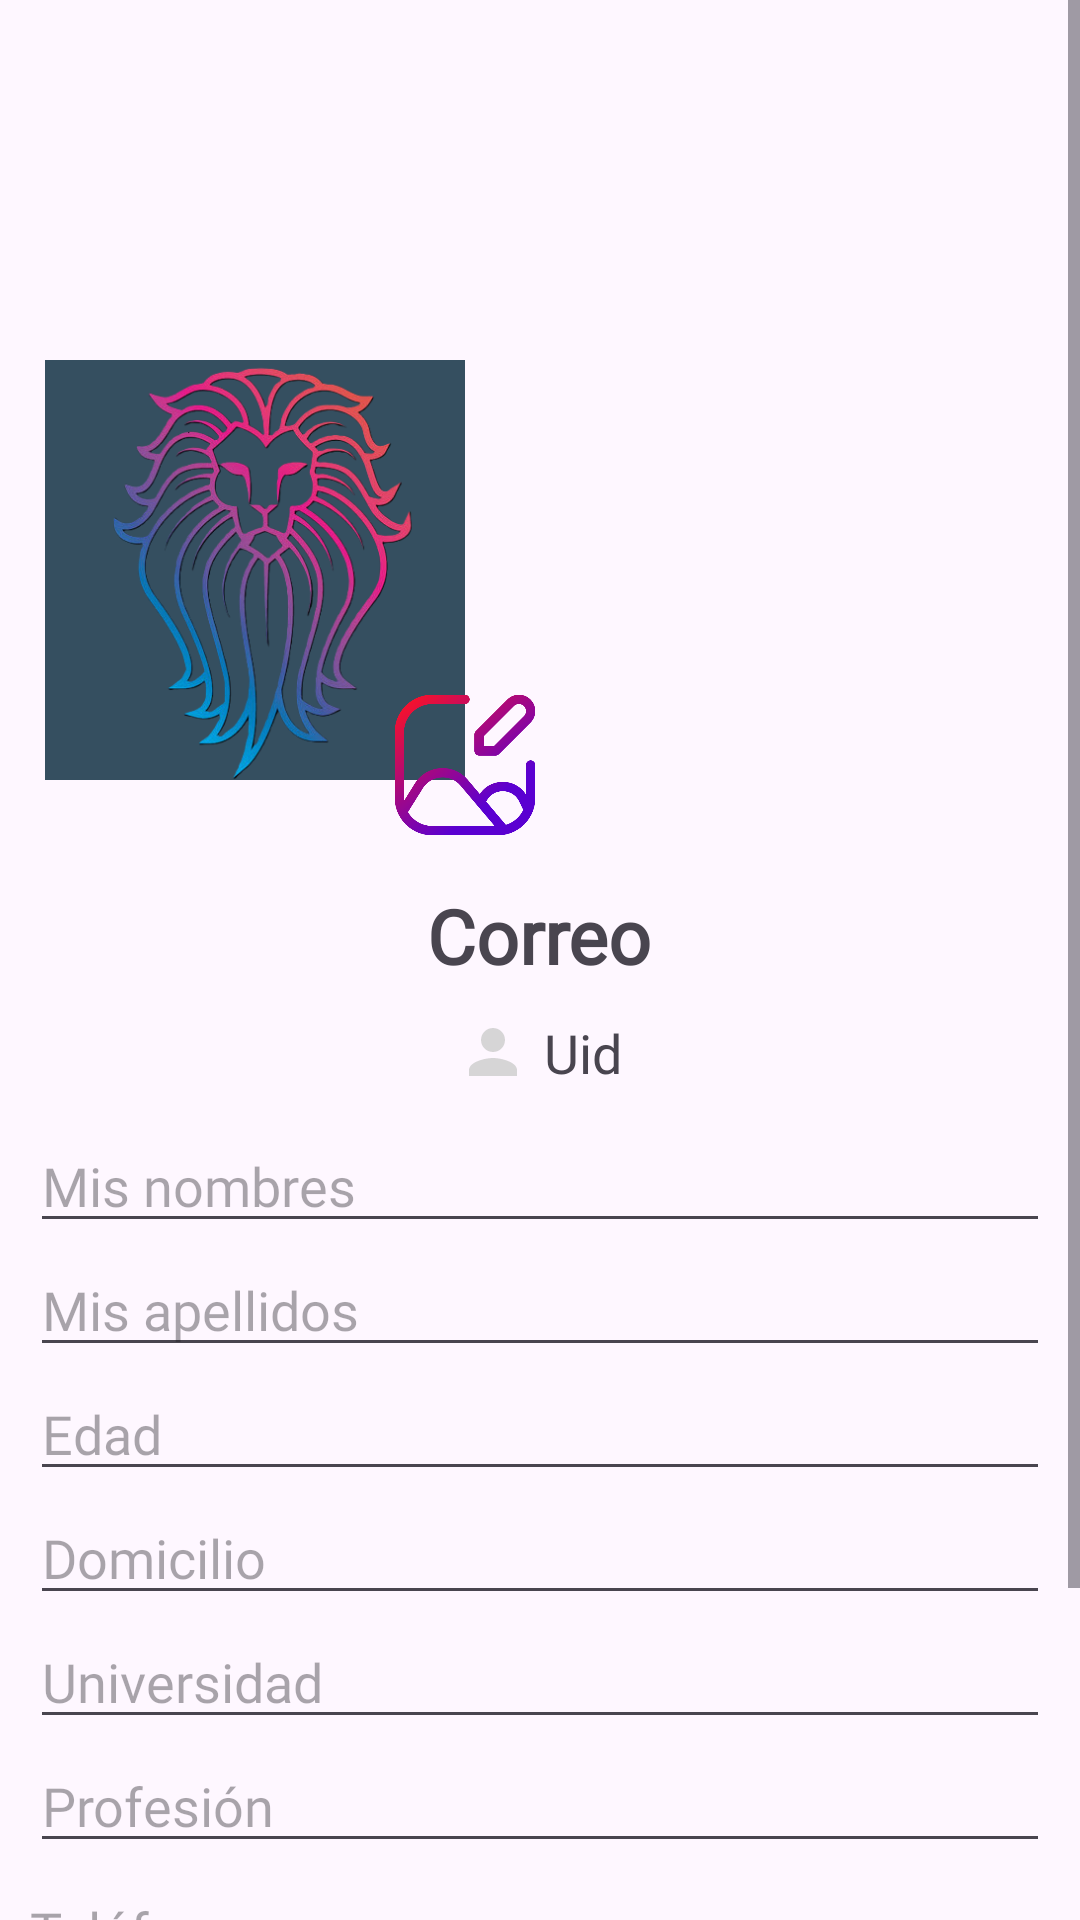

Named icons in this screenshot (1080w x 1920h) and their bounding boxes, detection(x1, y1, x2, y2):
editar imagenv: detection(390, 690, 535, 835)
